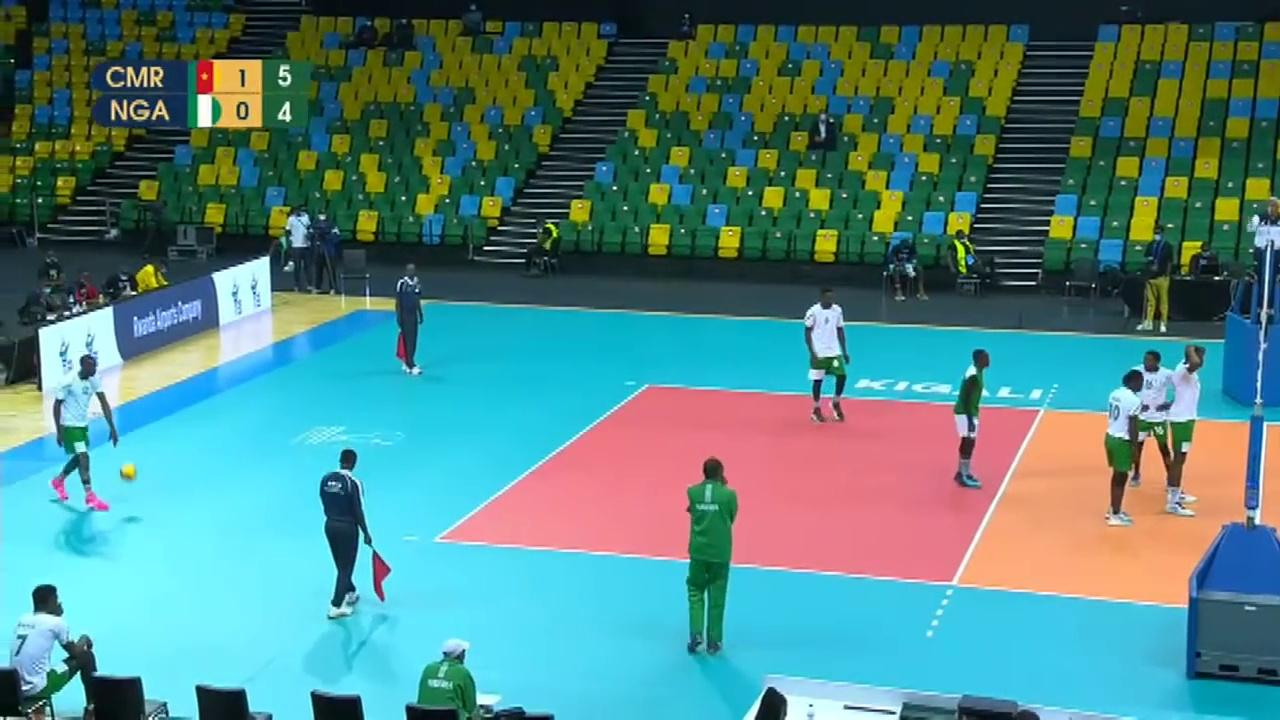player: (49, 359, 115, 507), (1129, 345, 1181, 486), (1100, 369, 1144, 529), (1164, 347, 1205, 517), (802, 291, 851, 424), (953, 350, 993, 484)
refree: (319, 451, 390, 613), (1244, 197, 1280, 314), (394, 263, 424, 374)
